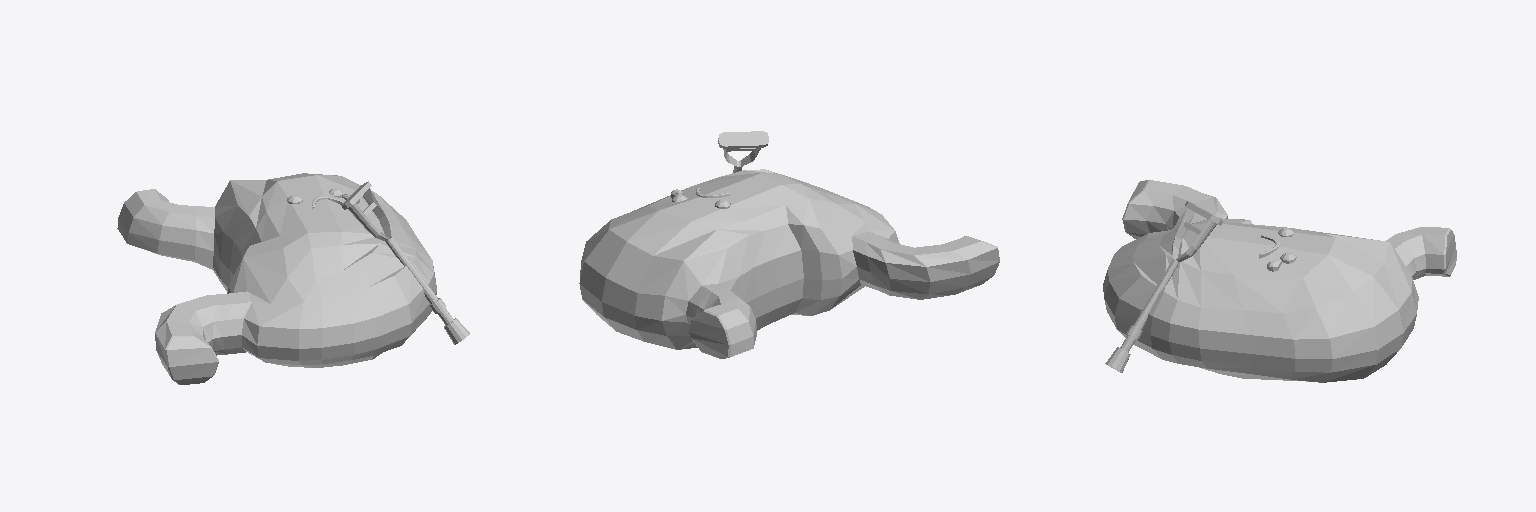
Rendered from stomach.obj.
The picture shows the model from 3 angles: view 1: azimuth 30°, elevation 25°; view 2: azimuth 150°, elevation 25°; view 3: azimuth 270°, elevation 25°; orthographic projection.
Parts seen in each view (by area): view 1: stomach; view 2: stomach; view 3: stomach.
Part boxes in pixels (x1,y1,x2,y2): stomach: (117,173,469,384); stomach: (579,131,999,358); stomach: (1103,180,1456,382).
Bounding box in the file's own units: 8.14 × 3.86 × 7.78.